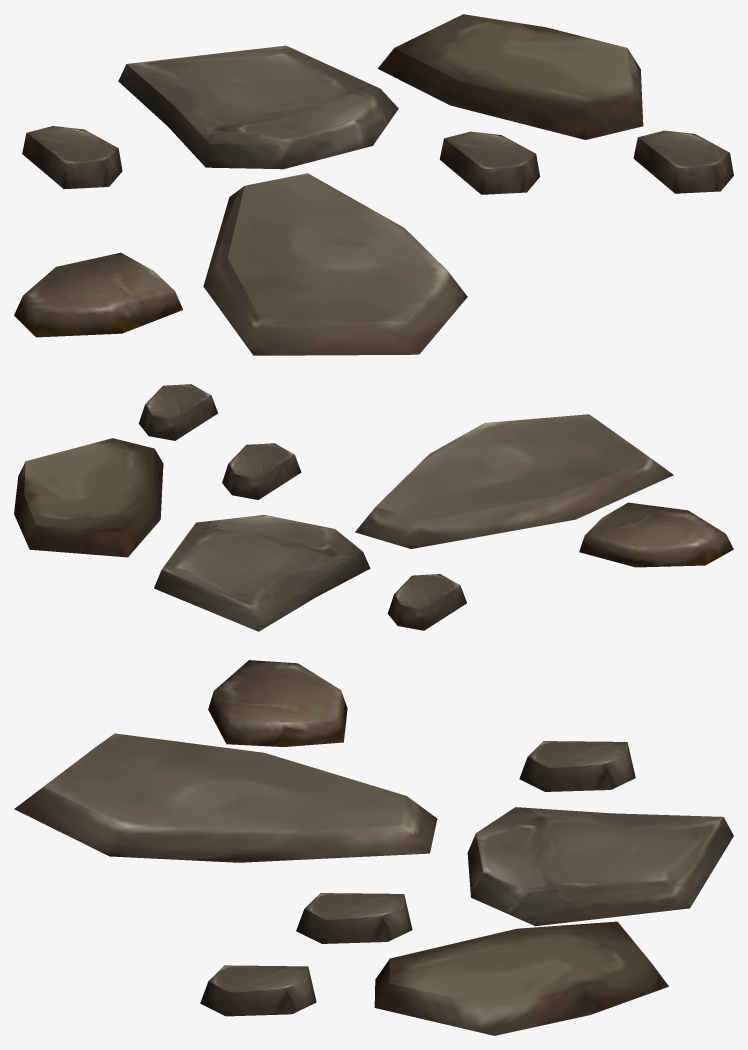
Rendered from XiaoShiTou02.FBX.
3 renders of one model, top to bottom at view 1: azimuth 30°, elevation 25°; view 2: azimuth 150°, elevation 25°; view 3: azimuth 270°, elevation 25°, orthographic. The views are drawn at different scales.
Visible parts, largest first — view 1: XiaoShiTou02; view 2: XiaoShiTou02; view 3: XiaoShiTou02.
Boxes of the visible parts, bbox=[...] form: XiaoShiTou02: bbox=[14, 14, 733, 355]; XiaoShiTou02: bbox=[14, 384, 733, 631]; XiaoShiTou02: bbox=[14, 660, 733, 1035].
Size of the model in its own units: 137 by 4.03 by 116.
